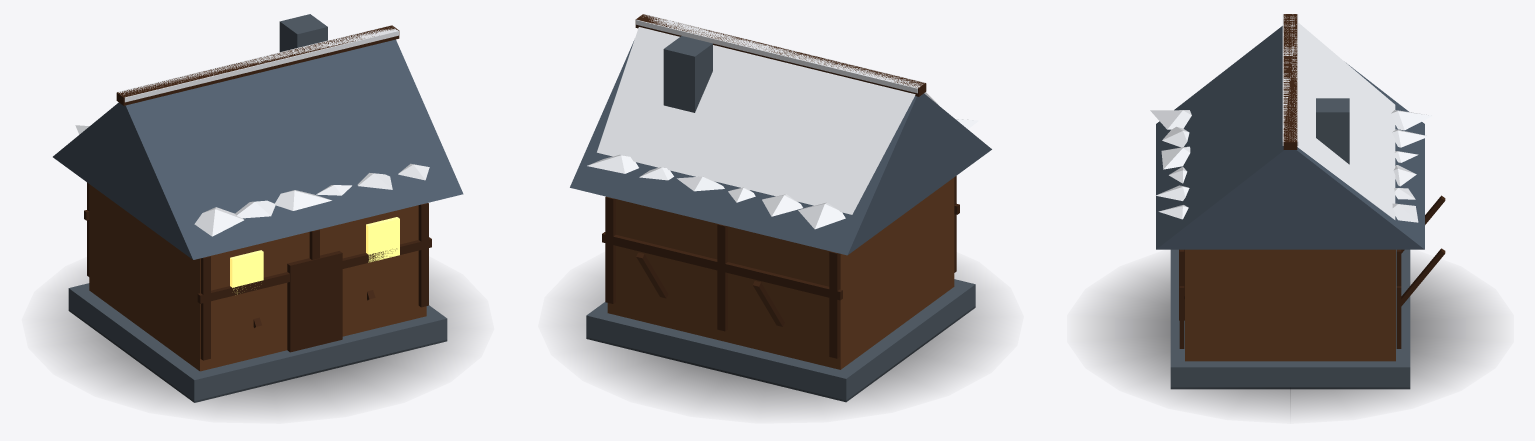
File: shelter_t1.glb
3 renders of one model, left to right at view 1: azimuth 30°, elevation 25°; view 2: azimuth 150°, elevation 25°; view 3: azimuth 270°, elevation 25°, orthographic. The views are drawn at different scales.
Parts seen in each view (by area): view 1: shelter_t1; view 2: shelter_t1; view 3: shelter_t1.
Boxes of the visible parts, <box> form: shelter_t1: <box>51,14,464,411</box>; shelter_t1: <box>568,14,993,410</box>; shelter_t1: <box>1095,14,1485,415</box>.
Size of the model in its own units: 4.85 by 2.95 by 4.8.
